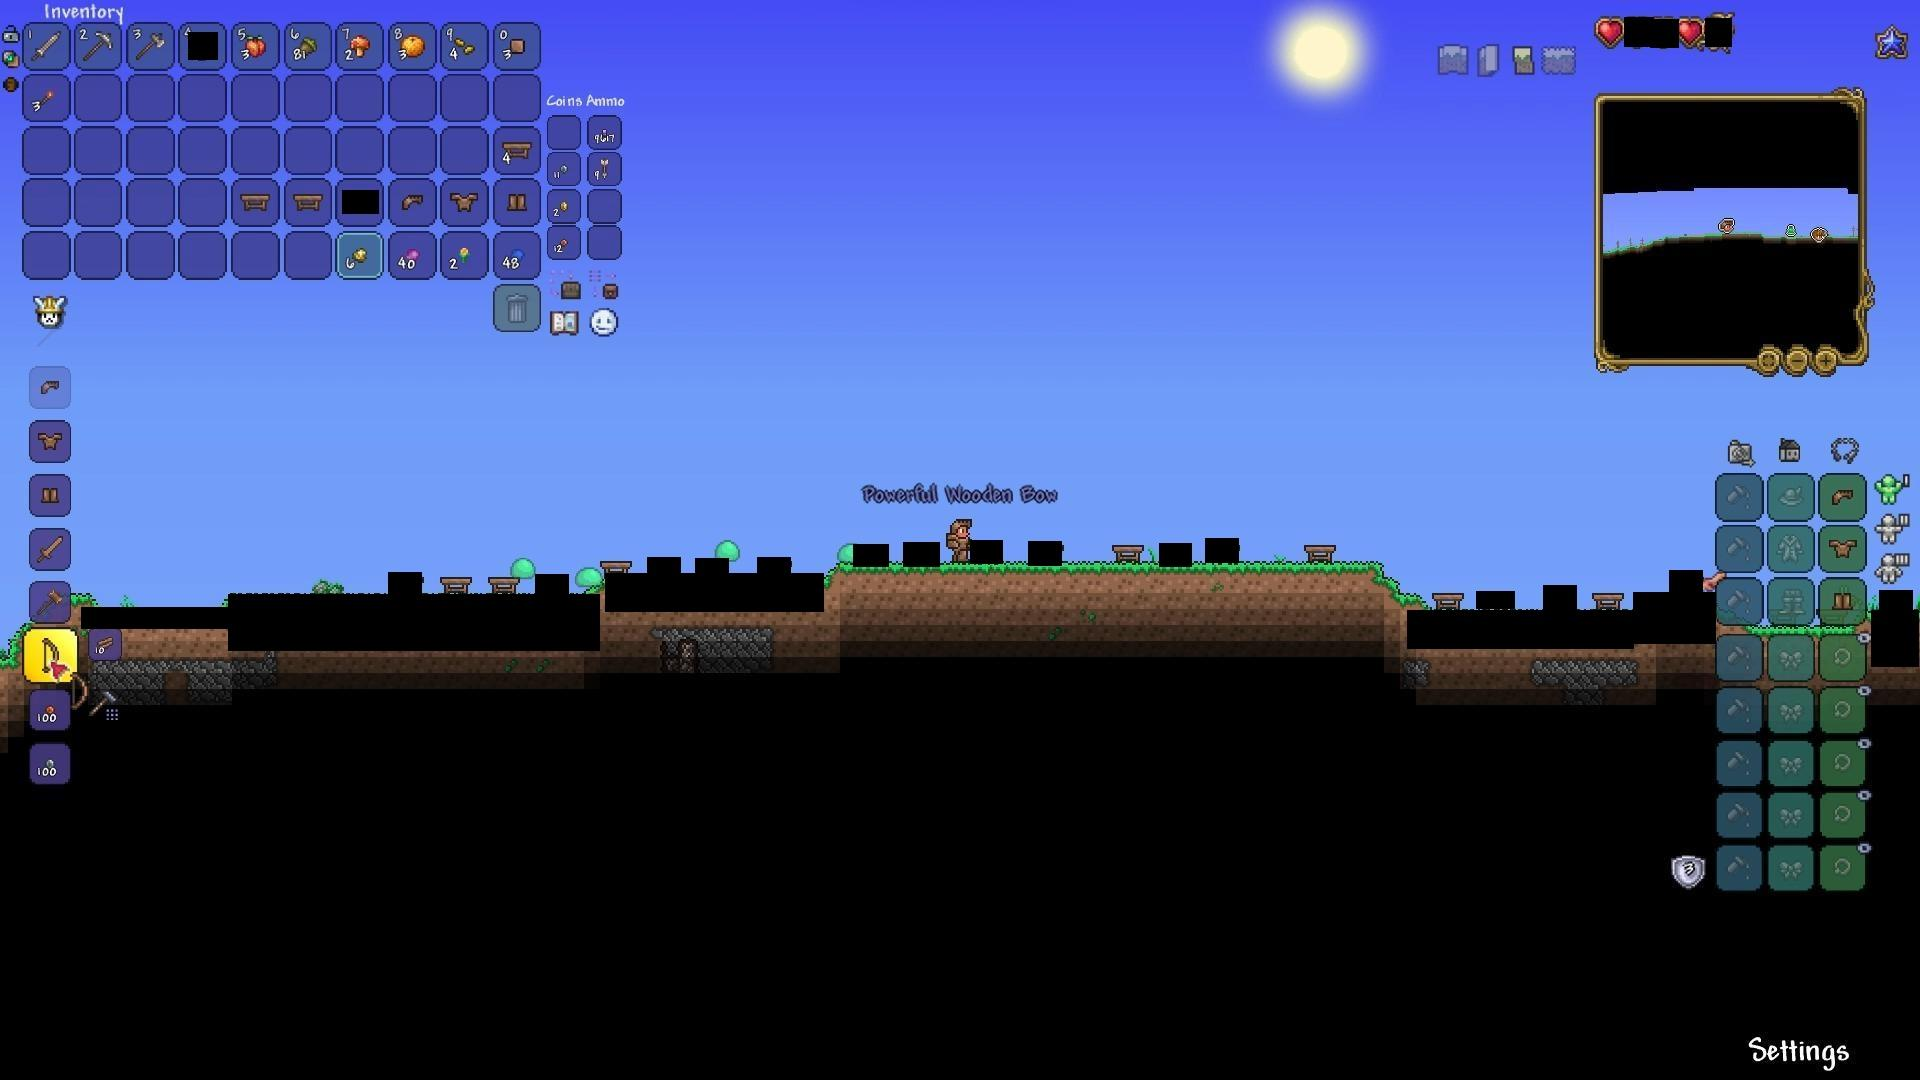breastplate: (36, 429, 65, 450), (1830, 537, 1859, 558), (448, 190, 477, 210)
dirt: (823, 562, 1416, 603)
heart: (1598, 16, 1626, 44), (1677, 18, 1702, 47)
helmet: (33, 375, 66, 402), (400, 189, 429, 214), (1829, 484, 1857, 509)
legs: (37, 483, 63, 509), (1832, 588, 1857, 616), (505, 186, 530, 214)
slime: (505, 553, 538, 580), (568, 560, 600, 588), (832, 537, 864, 564), (717, 531, 749, 559)
wood: (90, 632, 119, 659)
workbench: (237, 190, 274, 214), (500, 138, 535, 162), (1302, 542, 1335, 567), (597, 558, 632, 582), (291, 191, 327, 214), (436, 574, 469, 597), (487, 574, 520, 597), (1429, 587, 1462, 611), (1593, 587, 1626, 611), (1112, 543, 1145, 567)
